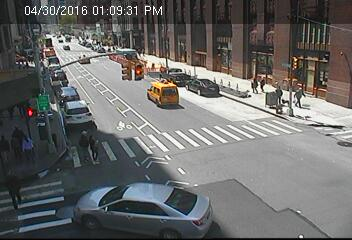neg: (159, 36, 187, 73), (59, 57, 85, 93), (94, 58, 119, 91), (269, 18, 293, 50), (134, 43, 156, 73), (305, 19, 323, 42), (210, 39, 227, 62), (334, 75, 351, 98), (194, 28, 209, 49), (294, 24, 308, 41), (299, 64, 312, 81), (201, 99, 214, 116), (239, 27, 251, 43), (318, 68, 330, 84), (257, 27, 269, 42), (328, 41, 339, 56), (279, 55, 287, 66)
pos: (73, 127, 99, 161), (8, 125, 27, 151), (86, 134, 104, 158), (292, 85, 306, 104), (274, 83, 287, 102), (248, 77, 261, 95), (257, 74, 268, 89)
